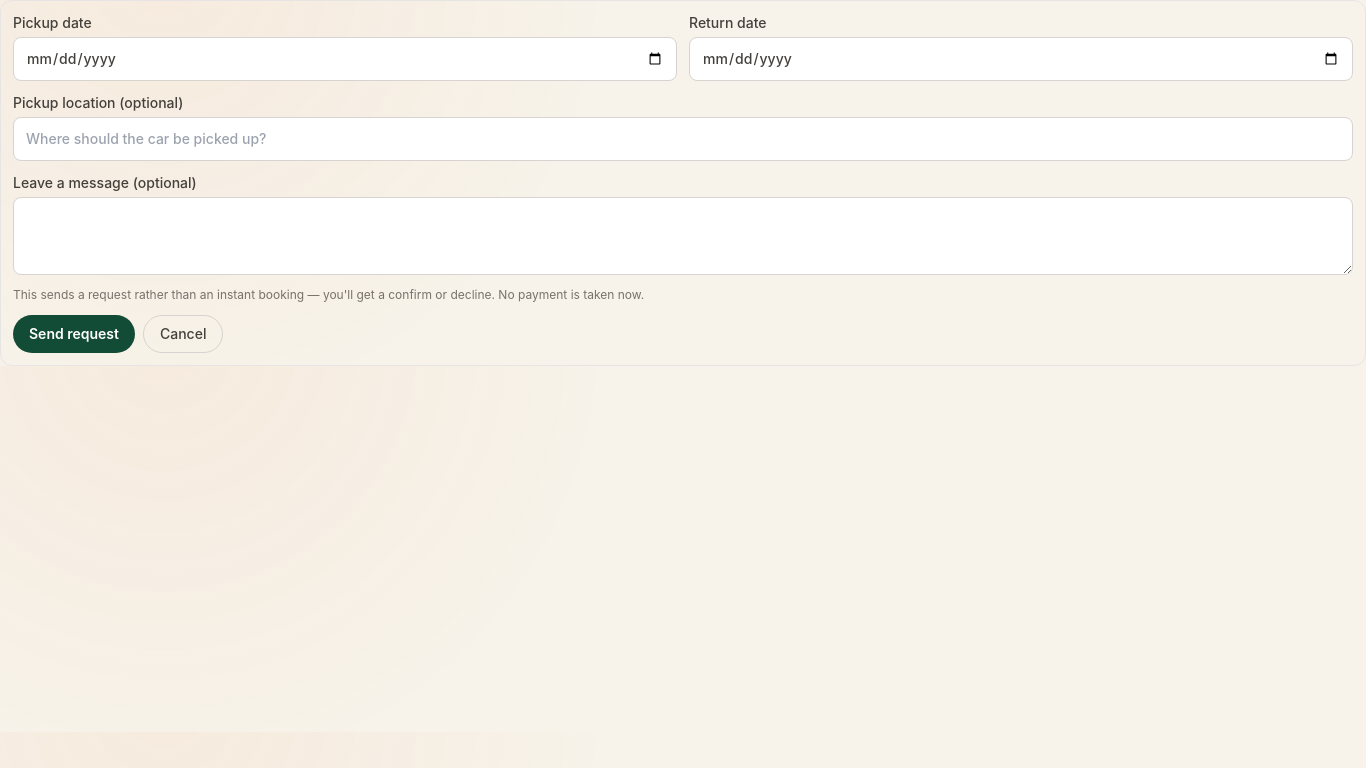
Test: BookingRequestSection (car listing) › shows a non-blocking warning when the chosen dates overlap a reported unavailable range
In the date field labelled "Pickup date": point(345, 59) [13,37,677,81], type "2026-01-01"
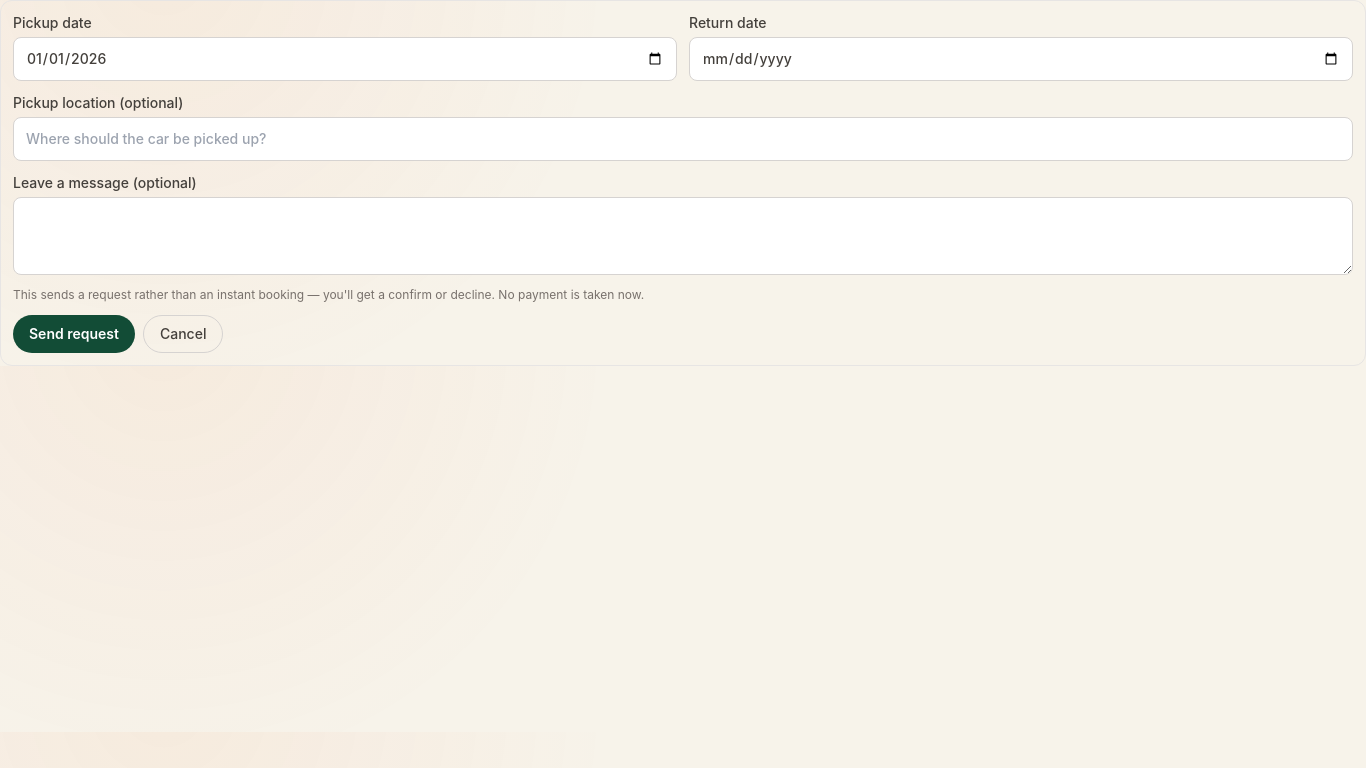
In the date field labelled "Return date": point(1021, 59) [689,37,1353,81], type "2026-01-03"
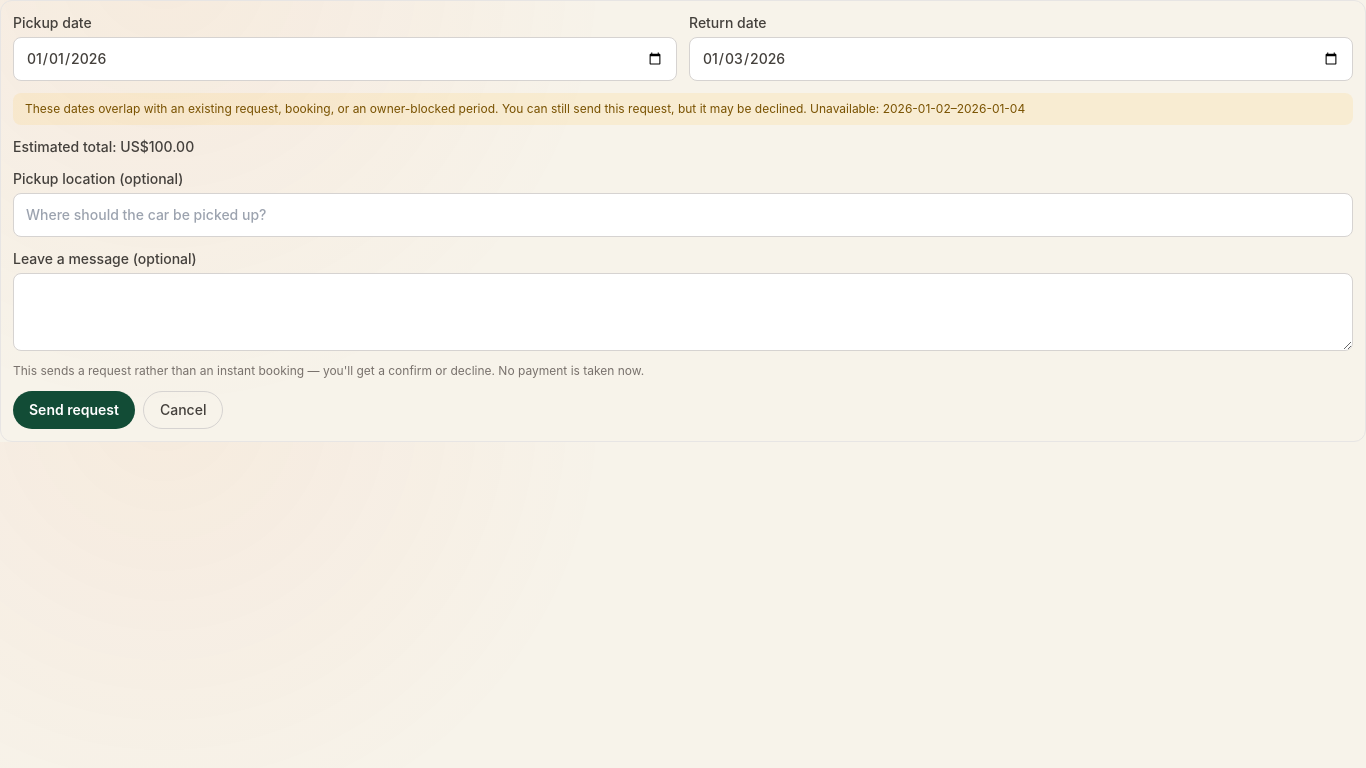
Expected: the button "Send request" is enabled, [13,391,135,429]
Expected: the text "overlap with an existing request" is shown, [25,101,879,116]
